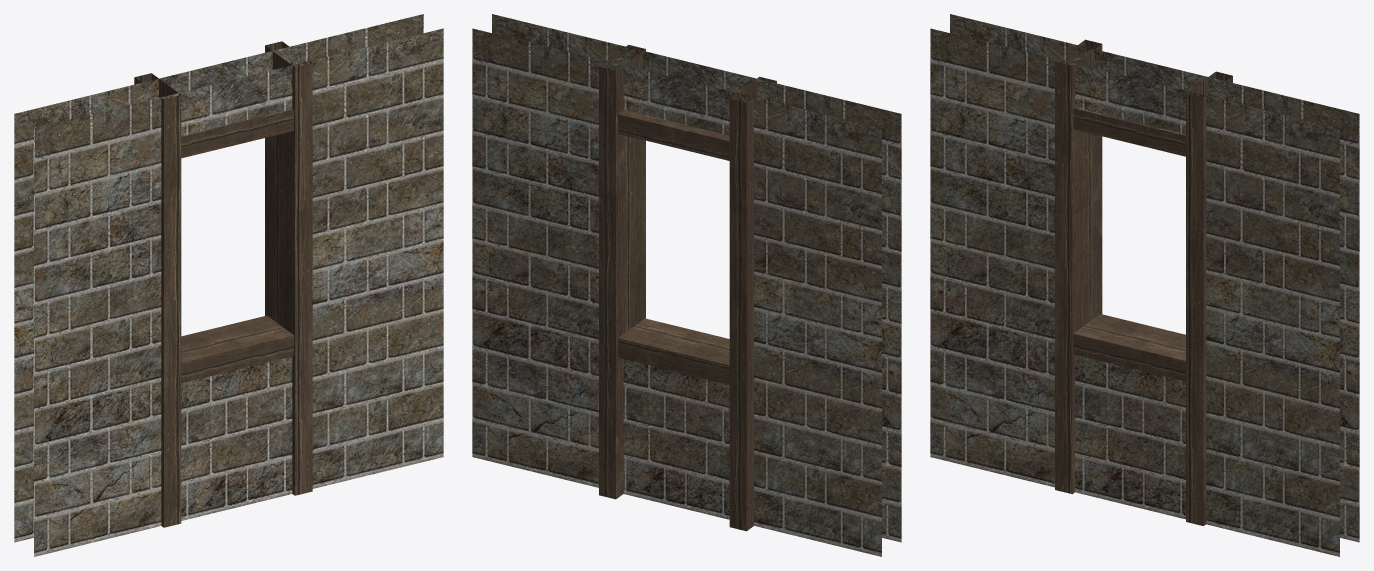
Rendered from ARC1010216.fbx.
3 renders of one model, left to right at view 1: azimuth 30°, elevation 25°; view 2: azimuth 150°, elevation 25°; view 3: azimuth 330°, elevation 25°, orthographic.
Parts seen in each view (by area): view 1: smARC1010216; view 2: smARC1010216; view 3: smARC1010216.
Boxes of the visible parts, left/top/right/bottom form: smARC1010216: left=14, top=14, right=443, bottom=556; smARC1010216: left=472, top=14, right=901, bottom=556; smARC1010216: left=930, top=14, right=1359, bottom=556.
Bounding box in the file's own units: 268 × 268 × 33.95.
Materials: 1 (1 with a texture image).
